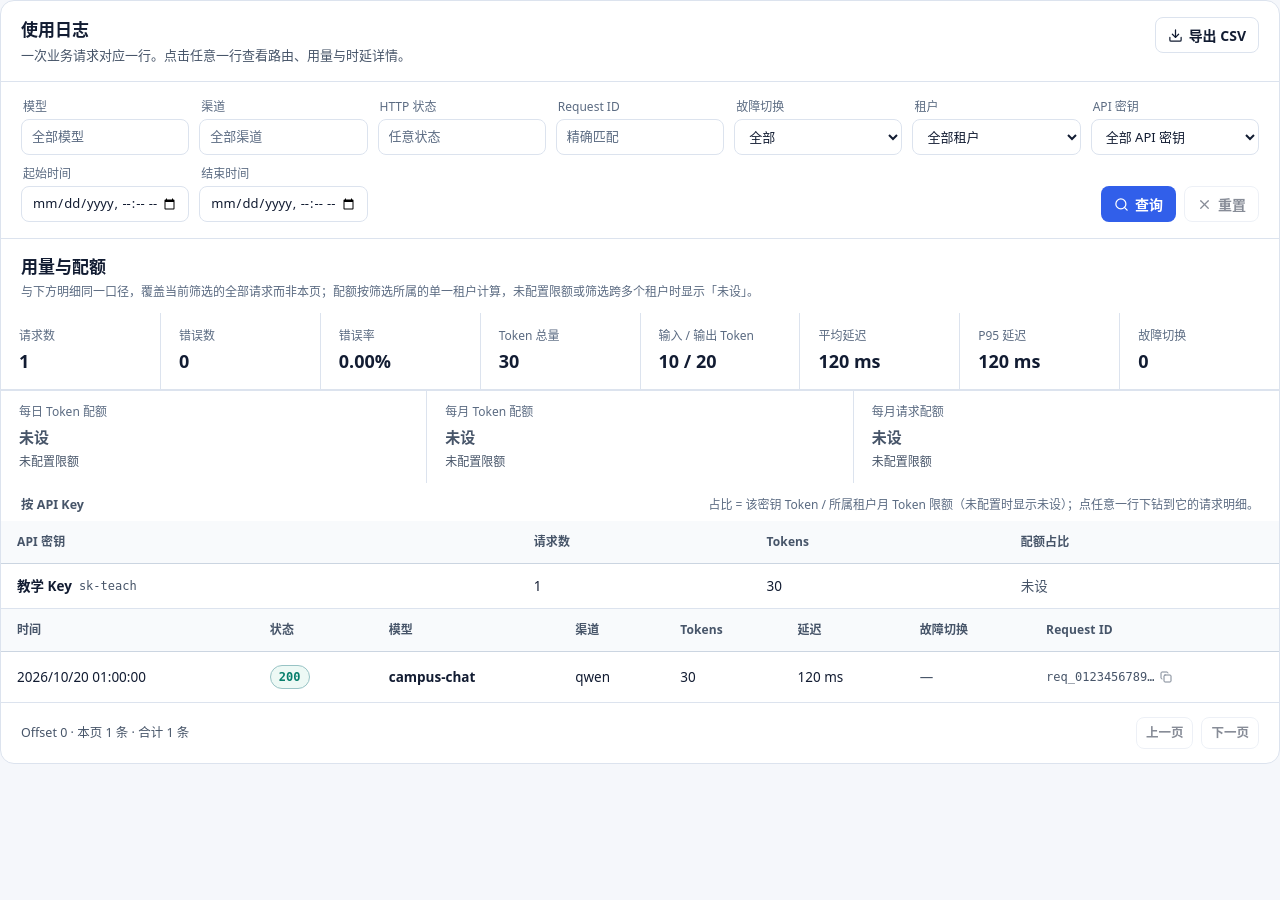
Test case: RequestLogsPage detail › opens the request detail from a row and shows the full request id
What coordinates should you click on to do the following:
click the text "campus-chat"
I would click on:
 (432, 677)
Its box is [389,668,475,686].
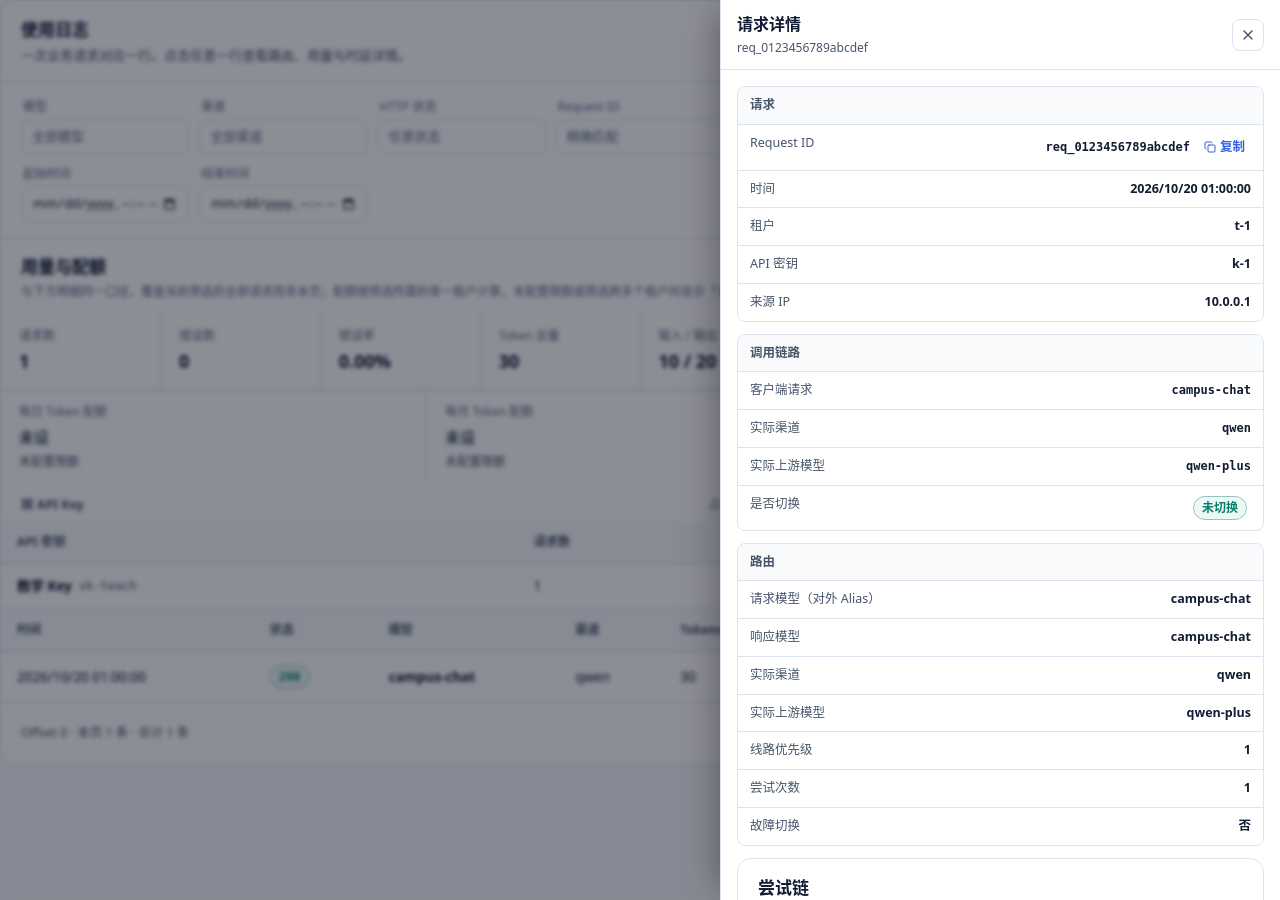
Expected: the button with aria-label "复制 Request ID" is shown, [1198,134,1251,161]
